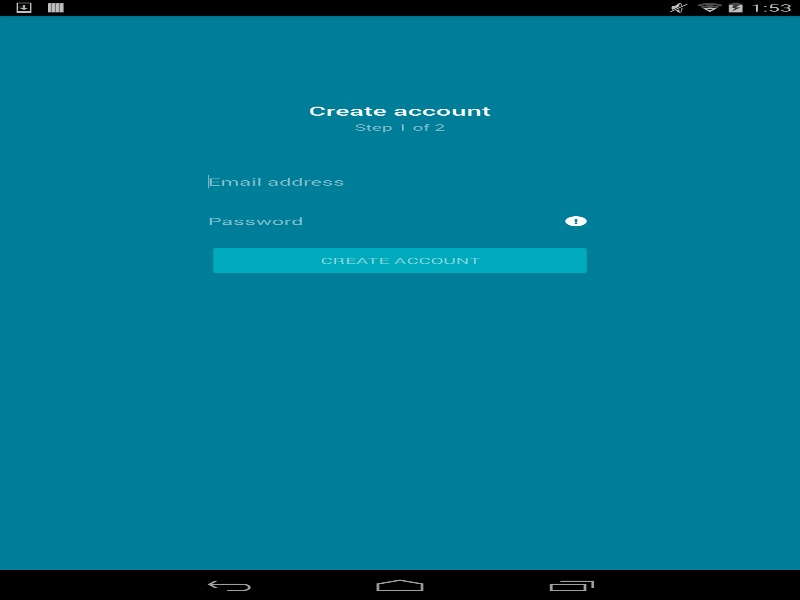Button: (213, 248, 586, 273)
Input: (208, 212, 592, 232), (208, 173, 592, 192)
